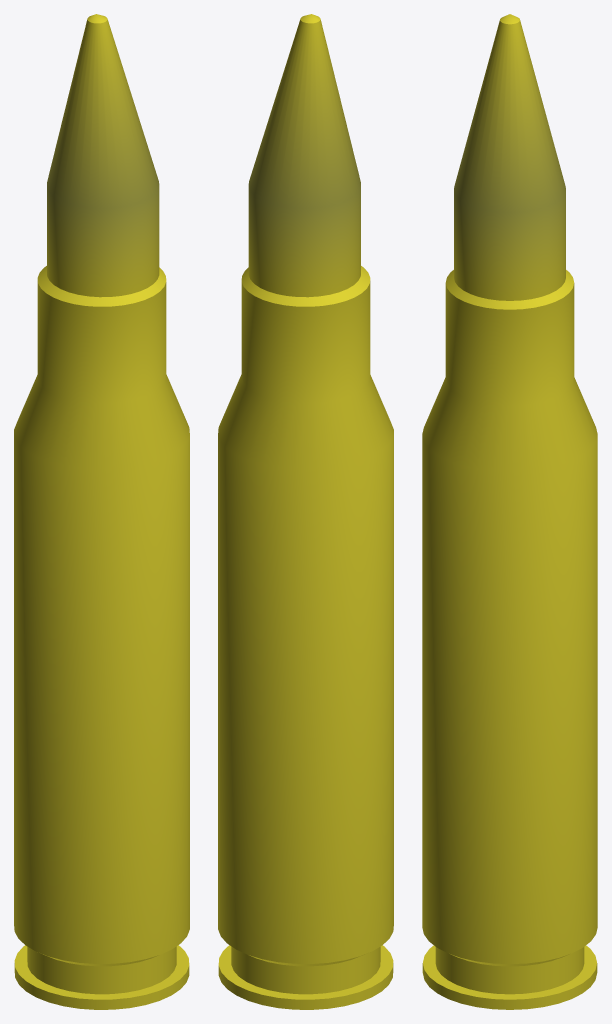
File: TiroAm.fbx
3 views of the same model, side by side, from view 1: azimuth 30°, elevation 25°; view 2: azimuth 150°, elevation 25°; view 3: azimuth 270°, elevation 25° (orthographic).
Parts seen in each view (by area): view 1: Bala; view 2: Bala; view 3: Bala.
Boxes of the visible parts, box(x1,y1,x2,y2) form: Bala: box(14, 14, 189, 1009); Bala: box(218, 14, 393, 1009); Bala: box(422, 14, 597, 1009).
Bounding box in the file's own units: 14.06 × 84.52 × 14.06.
